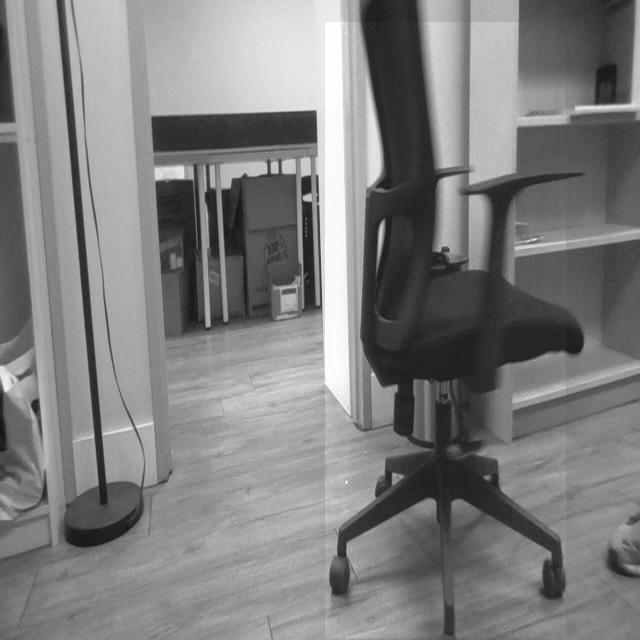chair: (325, 21, 567, 638)
